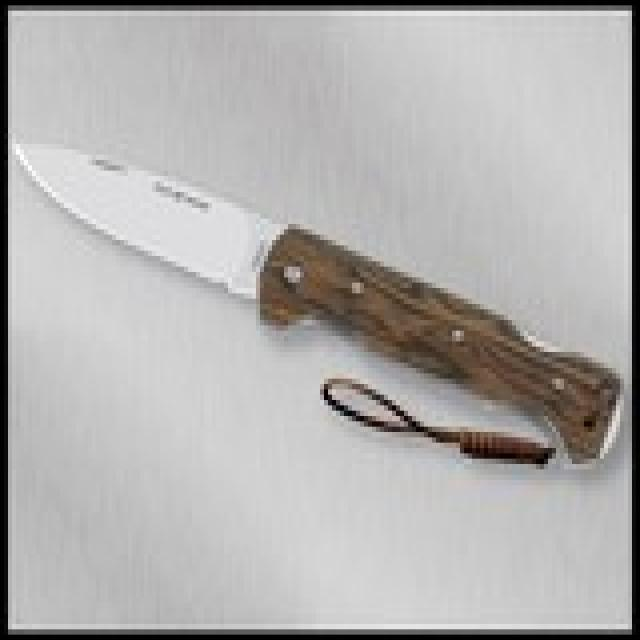Knife: (10, 115, 627, 484)
